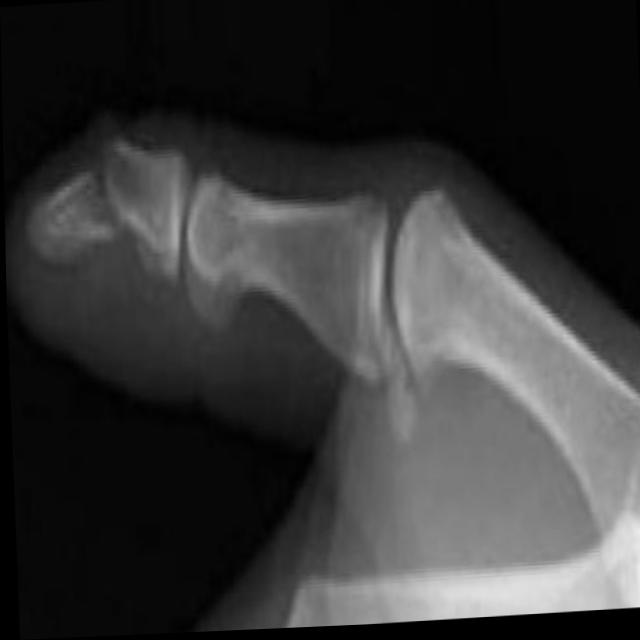fracture: (71, 120, 147, 288)
